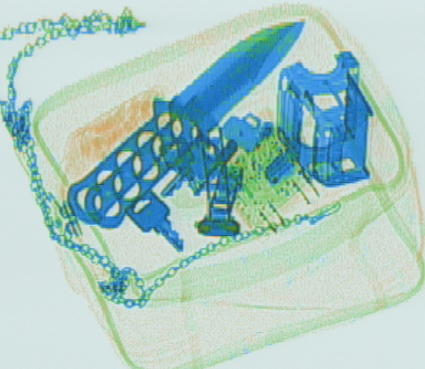knife: (62, 14, 309, 229), (82, 18, 306, 229)
